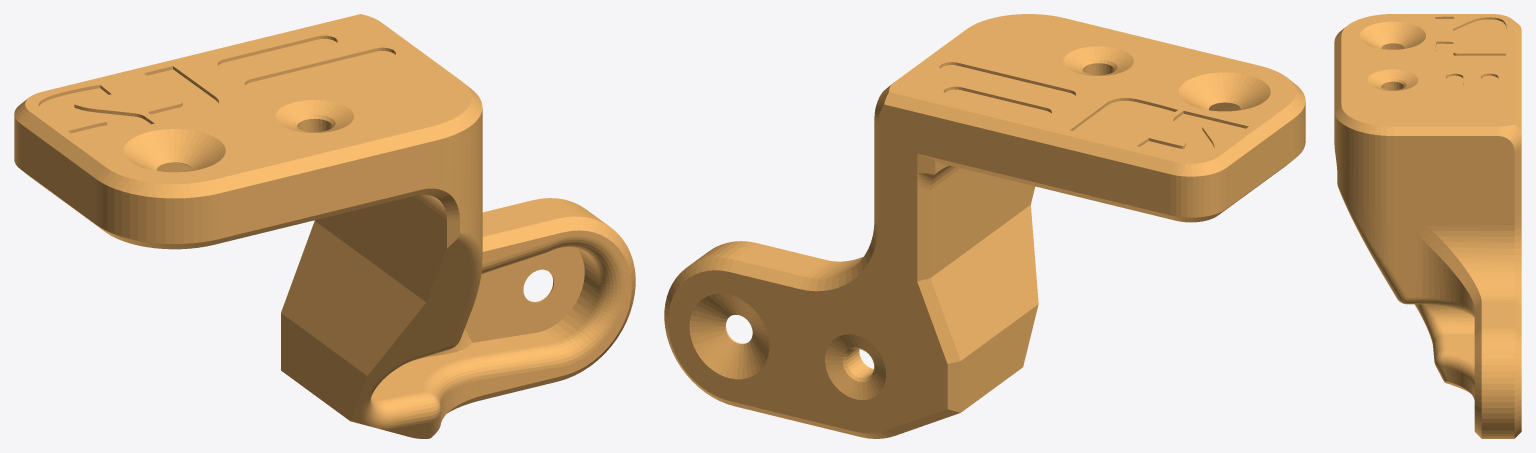
File: hip_l2.glb
3 renders of one model, left to right at view 1: azimuth 30°, elevation 25°; view 2: azimuth 150°, elevation 25°; view 3: azimuth 270°, elevation 25°, orthographic. The views are drawn at different scales.
Visible parts, largest first — view 1: geometry_0; view 2: geometry_0; view 3: geometry_0.
Boxes of the visible parts, <box> form: geometry_0: <box>14,14,635,438</box>; geometry_0: <box>664,14,1305,438</box>; geometry_0: <box>1334,14,1521,438</box>.
Bounding box in the file's own units: 0.0495 × 0.0305 × 0.0203.
